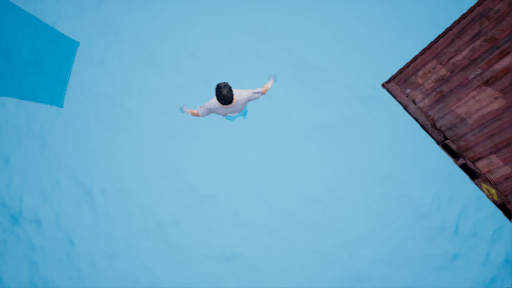person: (182, 78, 277, 128)
